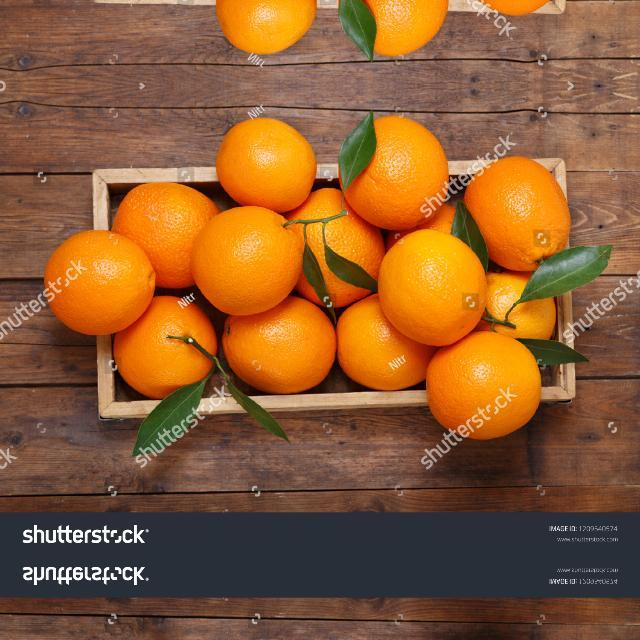Orange: (377, 228, 487, 346), (425, 330, 541, 441), (190, 204, 304, 316), (463, 154, 571, 271), (341, 114, 449, 230), (284, 187, 384, 308), (43, 228, 155, 335), (111, 181, 218, 288), (221, 295, 336, 393), (112, 294, 217, 399), (215, 116, 316, 212), (335, 293, 430, 390), (215, 0, 317, 55), (478, 271, 556, 340), (363, 0, 448, 57), (477, 0, 553, 16)
